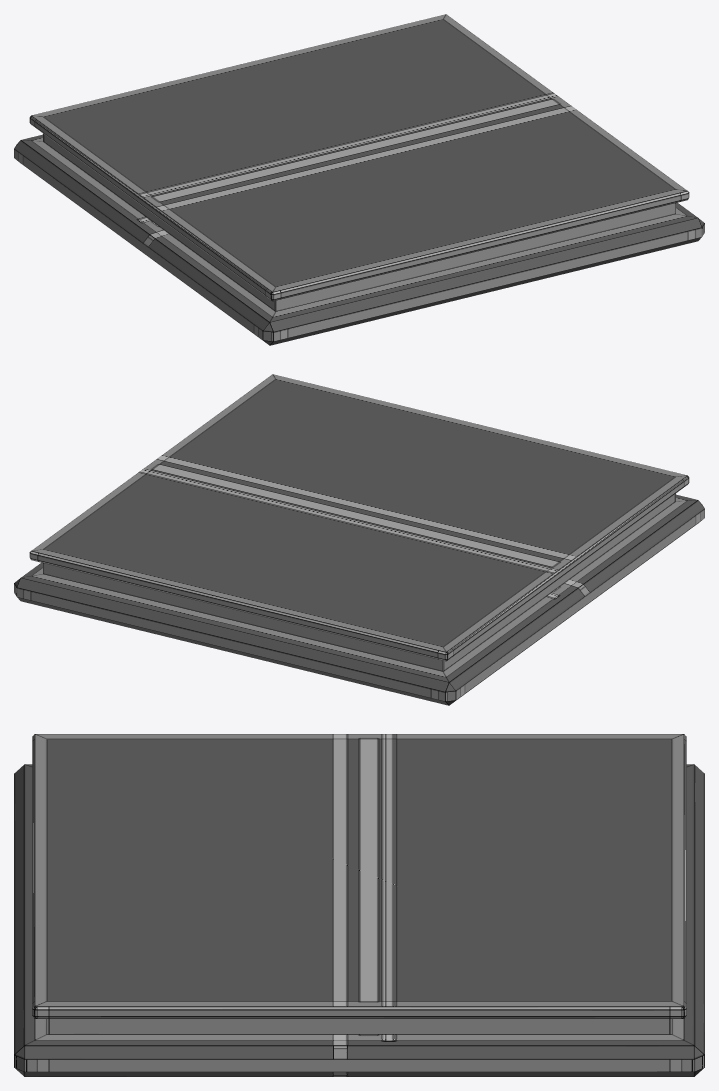
File: mannequin_stage.fbx
3 views of the same model, one above another, from view 1: azimuth 30°, elevation 25°; view 2: azimuth 150°, elevation 25°; view 3: azimuth 270°, elevation 25° (orthographic). The views are drawn at different scales.
Parts seen in each view (by area): view 1: Cube; view 2: Cube; view 3: Cube.
Boxes of the visible parts, x1,y1,x2,y2 form: Cube: (14,14,704,345); Cube: (14,374,704,705); Cube: (14,734,704,1076).
Size of the model in its own units: 1164 by 124 by 1173.
